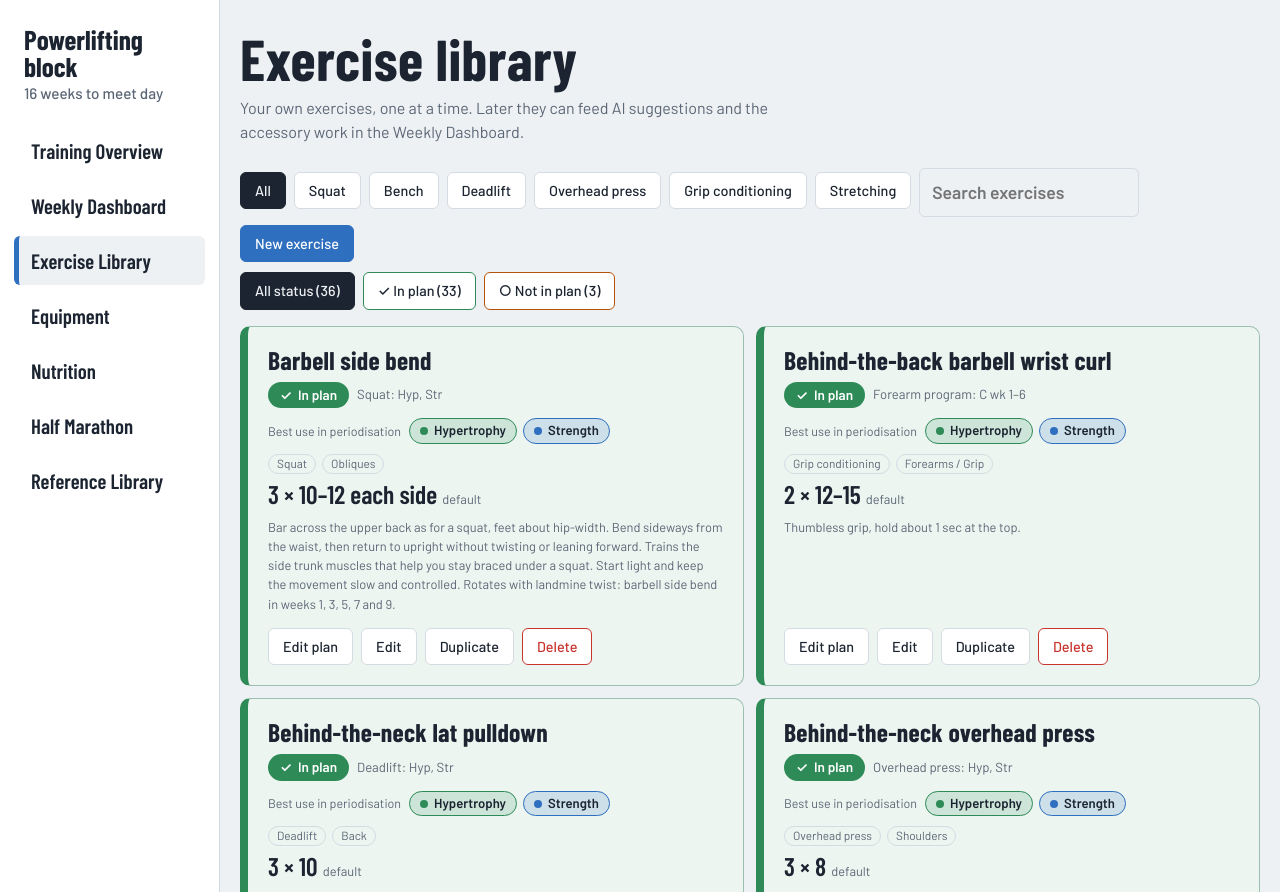
Test: exercise library › filters by lift, plan status and search, and jumps to equipment and back
The width and height of the screenshot is (1280, 892).
Later steps or results of the test are not shown.
Step 1. Click the button "Deadlift" → (486, 191), box [446,172,526,210]
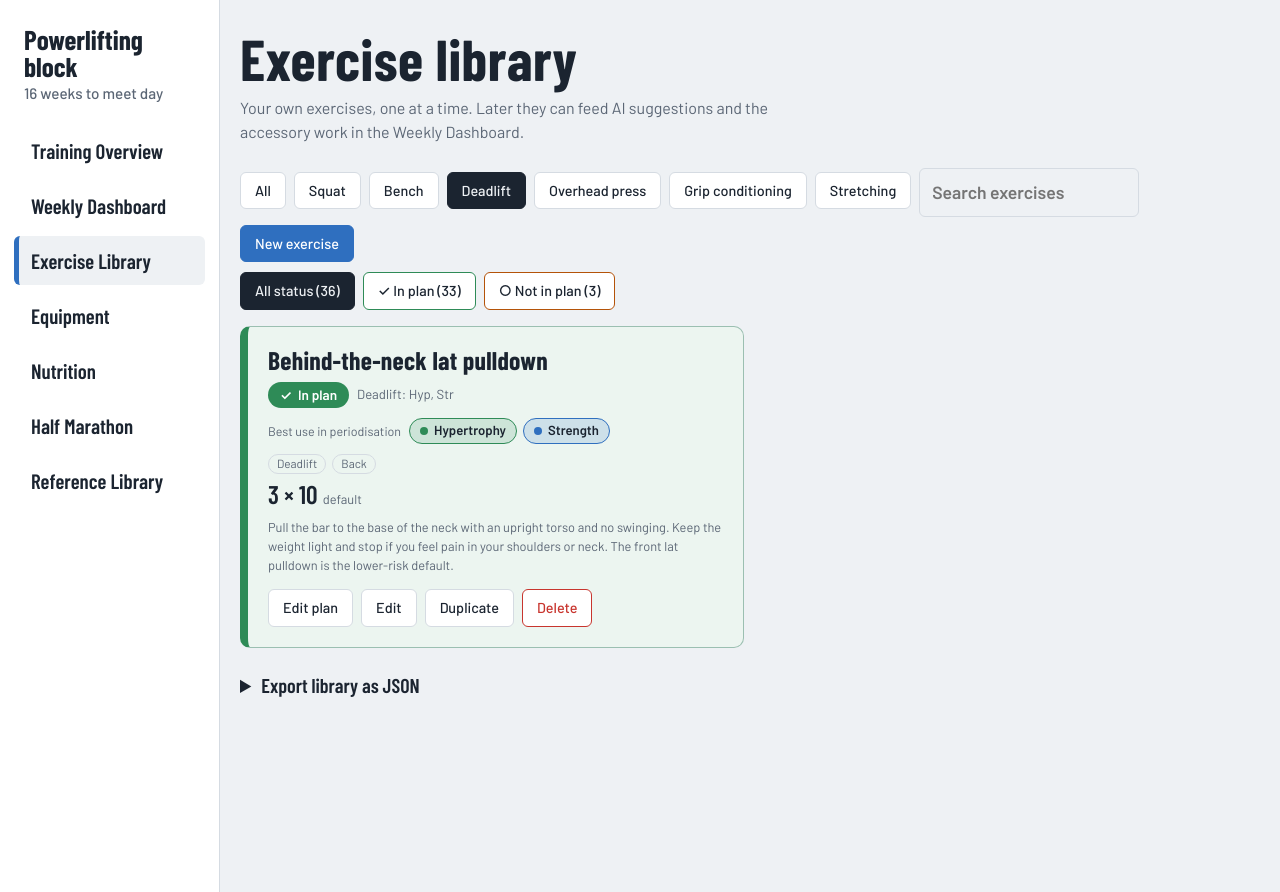
Expected: the heading "Behind-the-neck lat pulldown" is shown, [268,344,548,375]
Step 2. Click the button "All" → (263, 191), box [240,172,286,210]
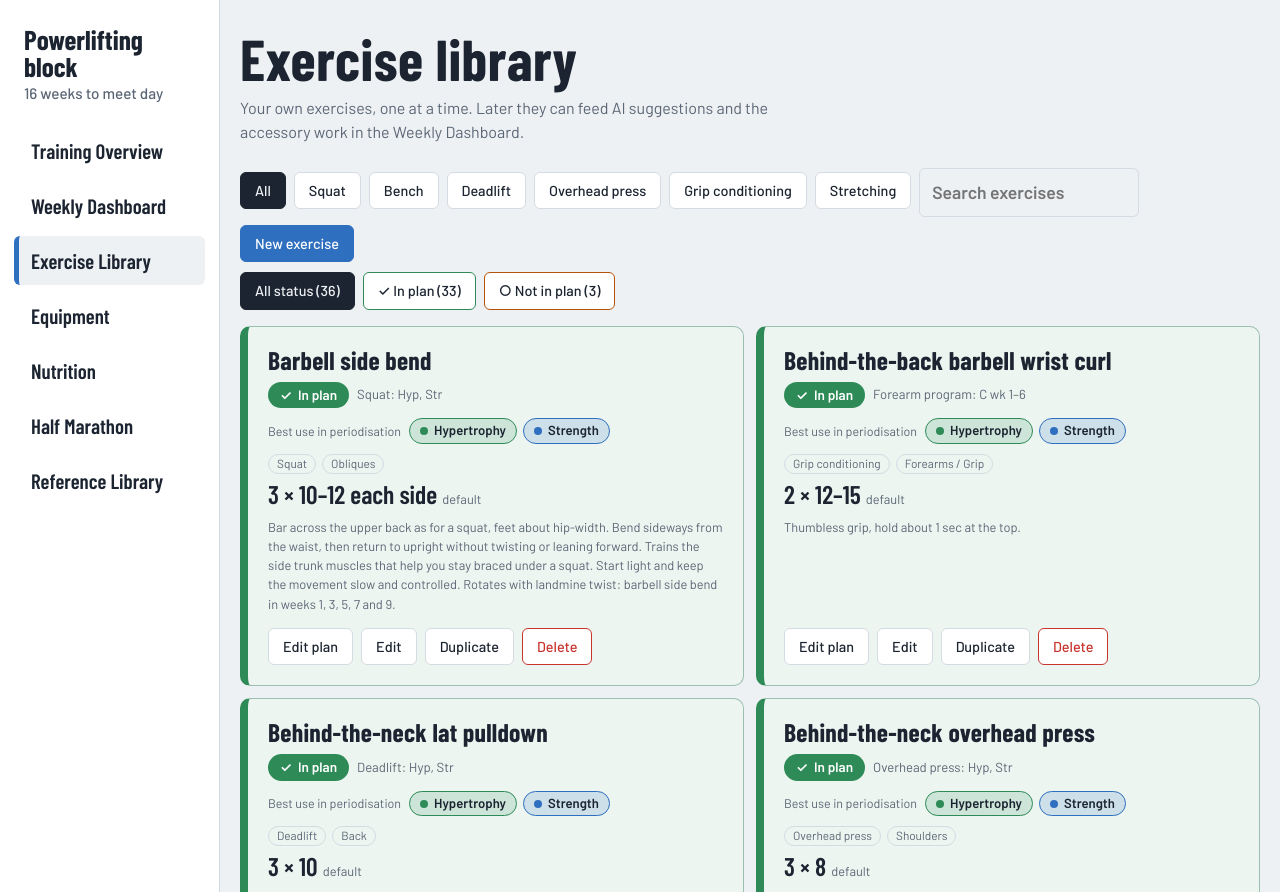
Step 3. Type "crusher" into the field with id "lsearch" → (1029, 193), box [919,168,1139,217]
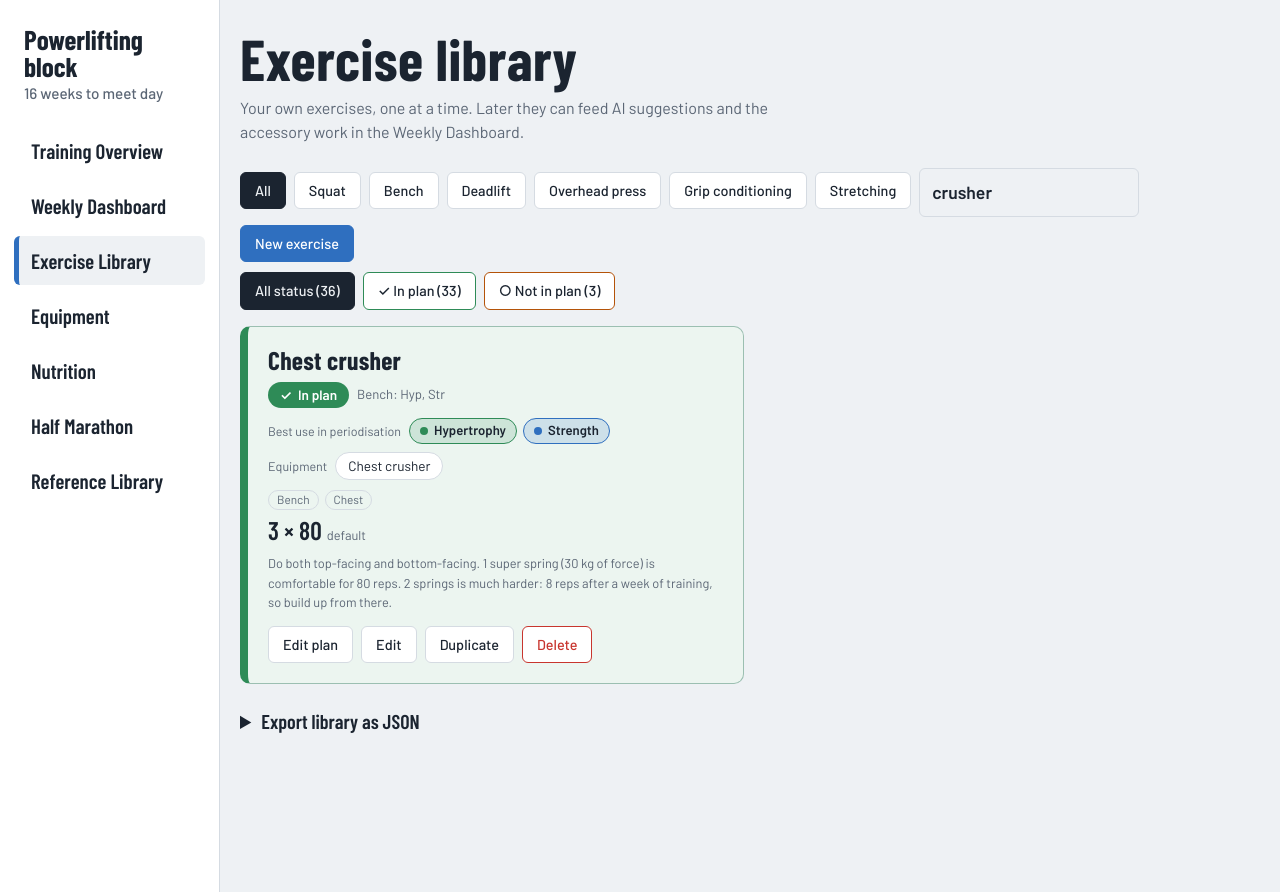
Step 4. Click the button "Chest crusher" → (389, 466), box [335,452,443,480]
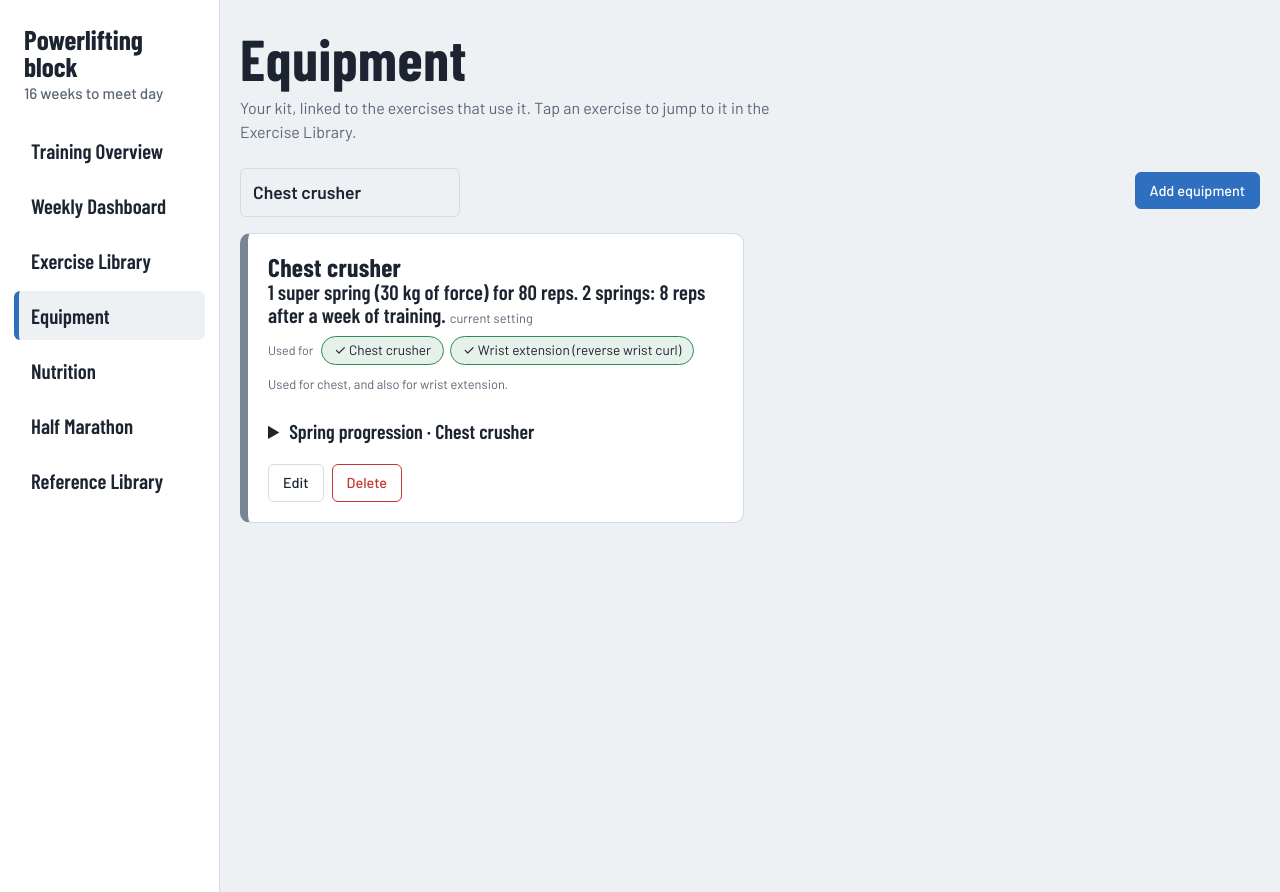
Now the heading "Equipment" is shown, box [240,23,467,93]
Now the field with id "eqsearch" holds "Chest crusher", box [240,168,460,217]
Now the heading "Spring progression · Chest crusher" is shown, box [289,419,534,443]
